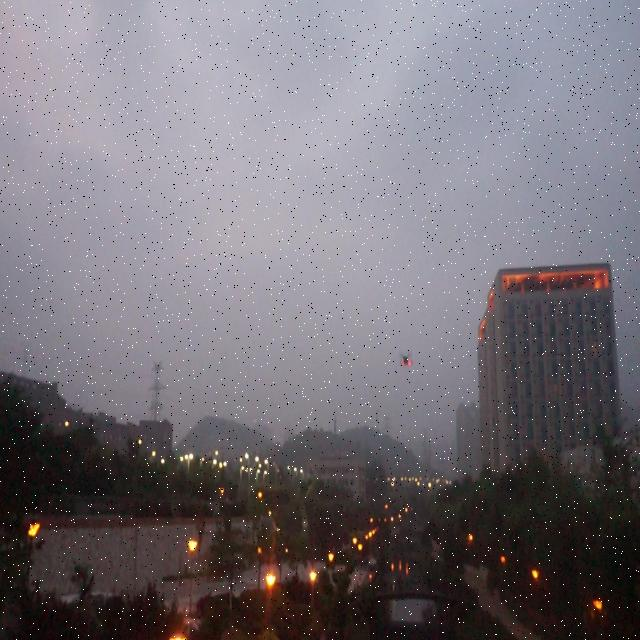UAV: (400, 351, 413, 367)
